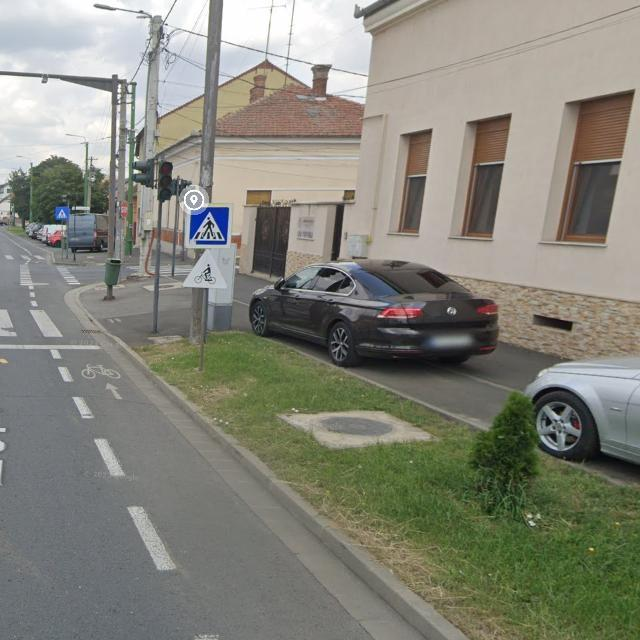info_crosswalk: (183, 203, 232, 249), (55, 206, 69, 221)
